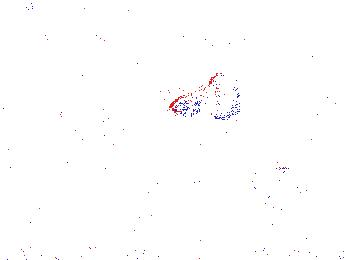flame jellyfish: (70, 172, 155, 229), (169, 72, 246, 121), (242, 167, 308, 215)
